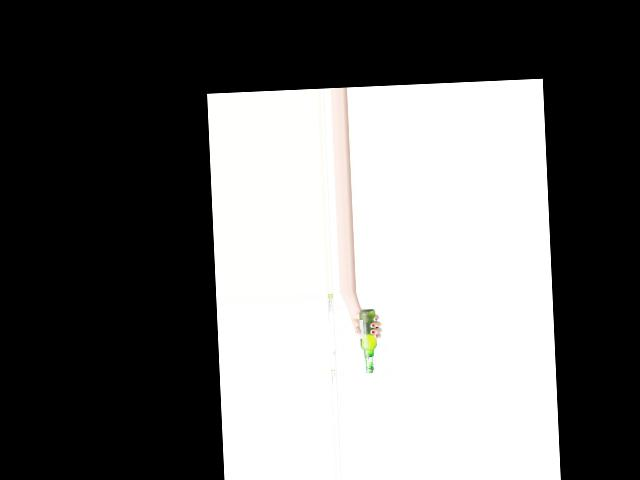beer: (358, 309, 378, 373)
